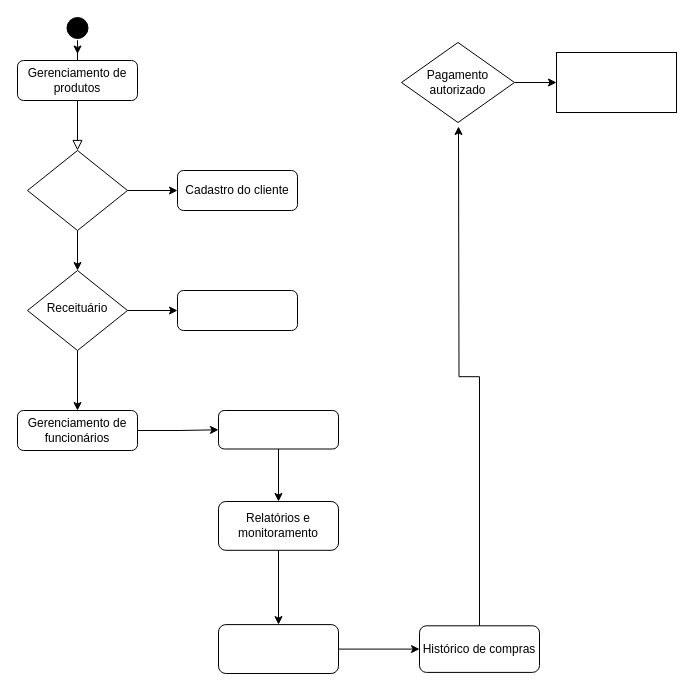
Some shapes in this 694 by 691 pixel diagram are drawn without their labels. Each missing label, with the centre of its shape:
Cadastro e controle de acesso: point 278,429
Relatórios de vendas e estoque: point 278,649
Validar Receita: point 237,310
Vendas e atendimento: point 77,190
